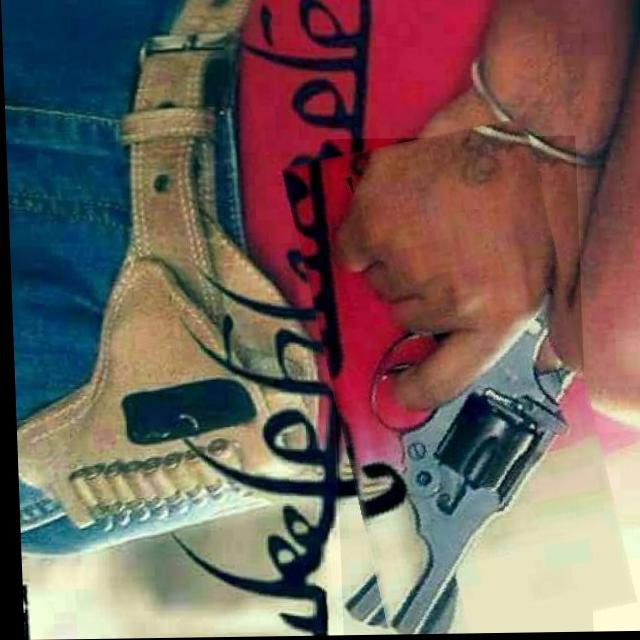handgun: (300, 127, 610, 637)
